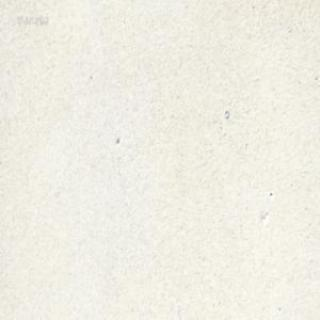Washertrack_idkeyframe: (222, 107, 228, 119)
